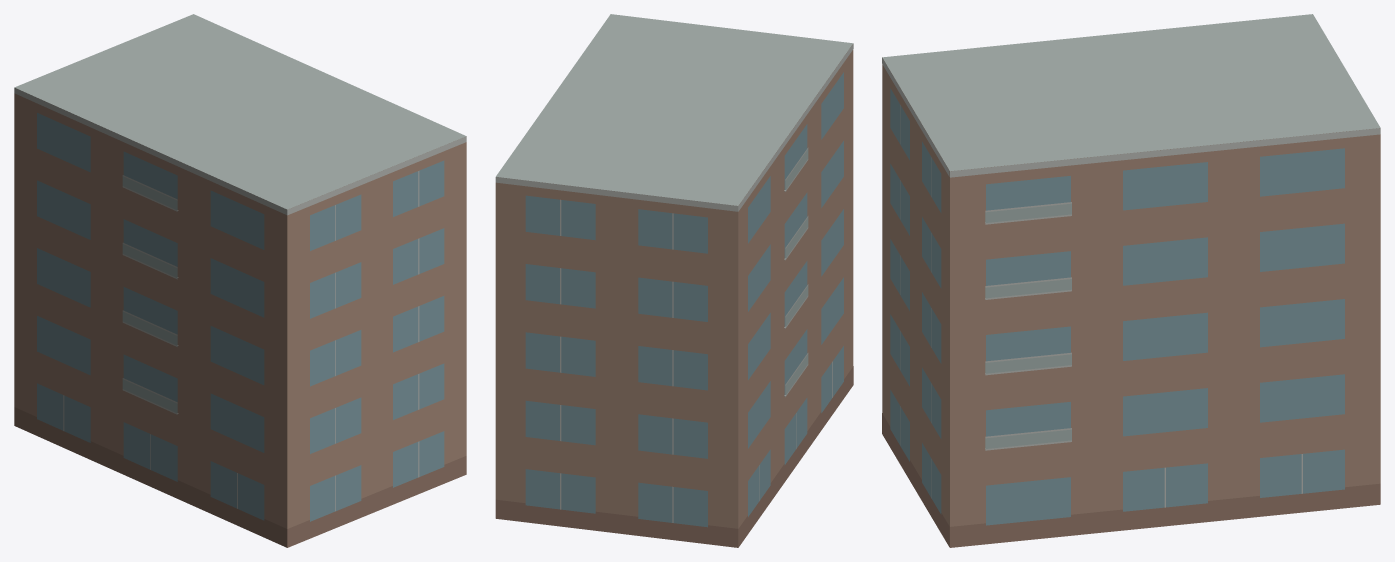
The model's file is survey-upis-32942943.glb.
3 views of the same model, side by side, from view 1: azimuth 30°, elevation 25°; view 2: azimuth 150°, elevation 25°; view 3: azimuth 270°, elevation 25° (orthographic). The views are drawn at different scales.
Visible parts, largest first — view 1: survey-upis-32942943.tmp; view 2: survey-upis-32942943.tmp; view 3: survey-upis-32942943.tmp.
Boxes of the visible parts, x1,y1,x2,y2 form: survey-upis-32942943.tmp: [14, 14, 466, 547]; survey-upis-32942943.tmp: [495, 14, 853, 547]; survey-upis-32942943.tmp: [882, 14, 1380, 547].
Bounding box in the file's own units: 12.81 × 14.3 × 17.16.
